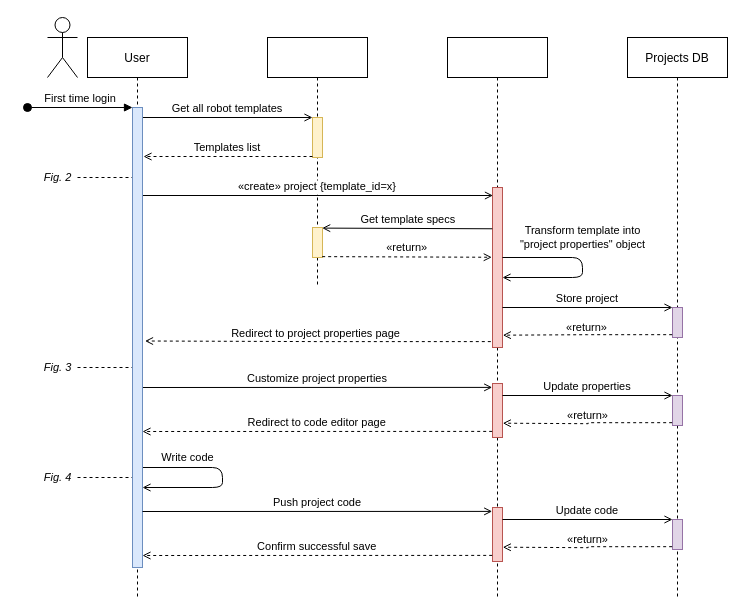
Some shapes in this 745 by 615 pixel diagram are drawn without their labels. The shapes that lost their labels are listed below. From the top down, each one's centre as x and y in pixels, then its label:
At [317,162]: "Templates".
At [497,317]: "Projects".
